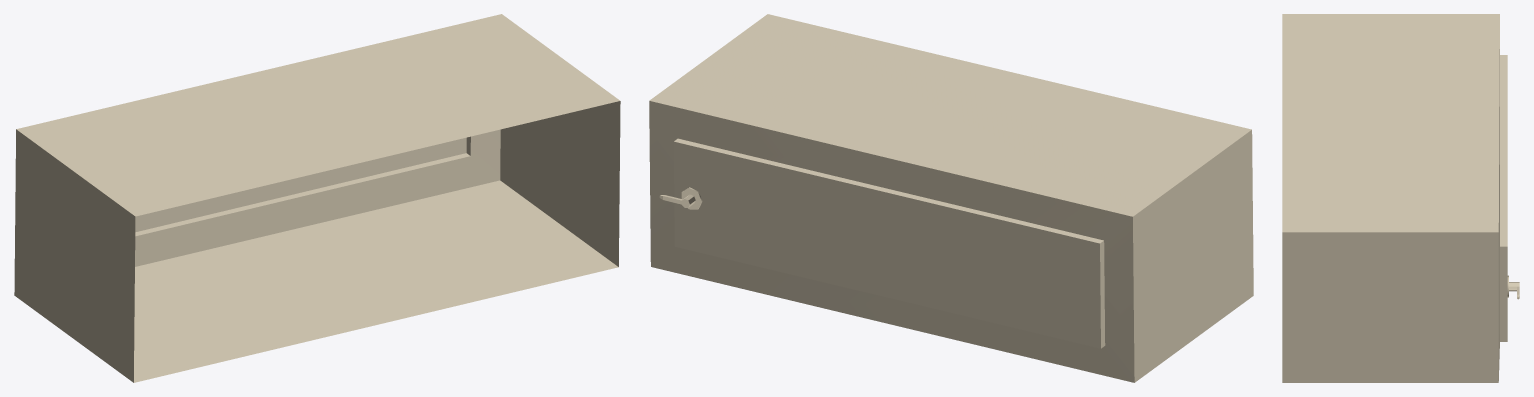
The model's file is Armario1.fbx.
3 views of the same model, side by side, from view 1: azimuth 30°, elevation 25°; view 2: azimuth 150°, elevation 25°; view 3: azimuth 270°, elevation 25° (orthographic). The views are drawn at different scales.
Visible parts, largest first — view 1: armario; view 2: armario; view 3: armario.
Part boxes in pixels (x1,y1,x2,y2): armario: (14, 14, 620, 382); armario: (649, 14, 1253, 382); armario: (1282, 14, 1519, 382).
Bounding box in the file's own units: 69.87 × 23.13 × 32.37.
